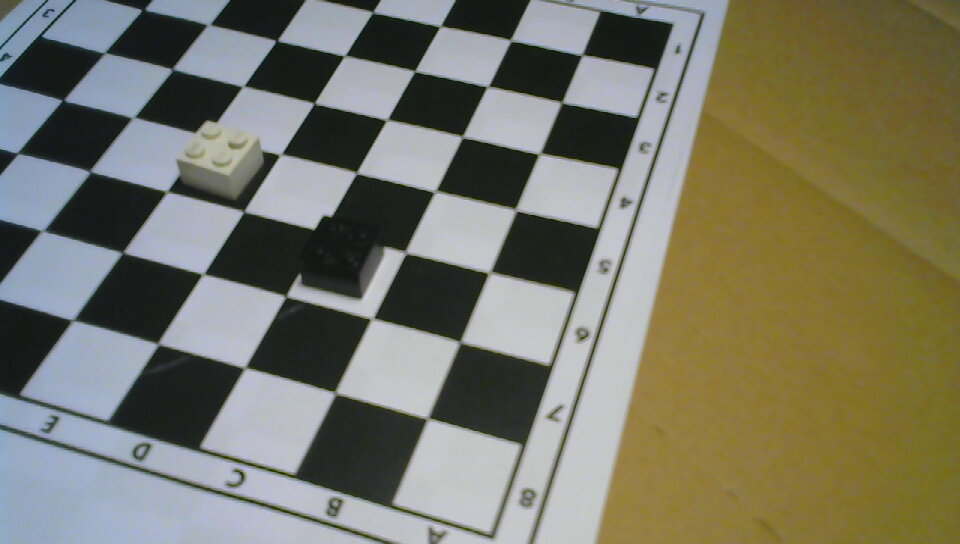bp: (299, 214, 385, 297)
wp: (176, 120, 265, 201)
